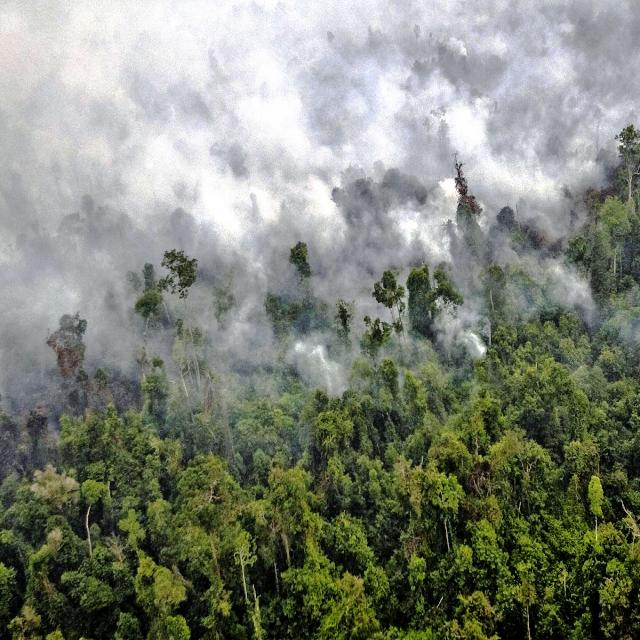asap: (3, 1, 640, 262), (1, 252, 145, 373), (203, 265, 270, 395), (323, 249, 380, 326), (283, 334, 344, 401), (538, 252, 598, 318), (439, 300, 486, 356)
